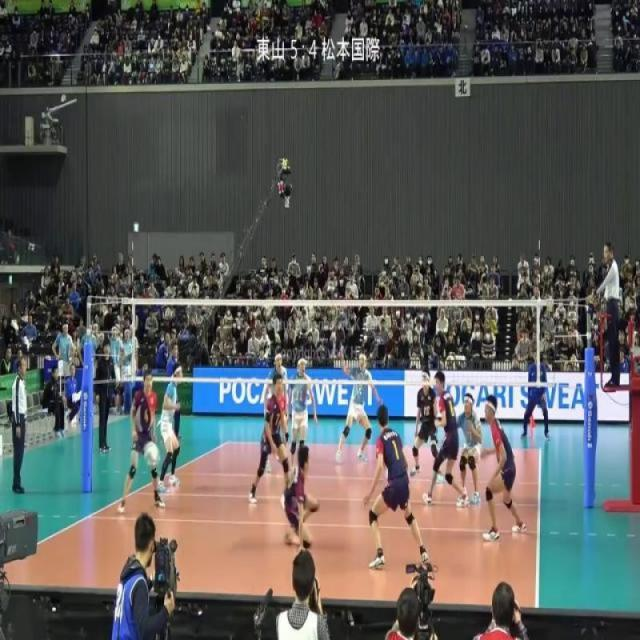volleyball: (143, 439, 160, 468)
